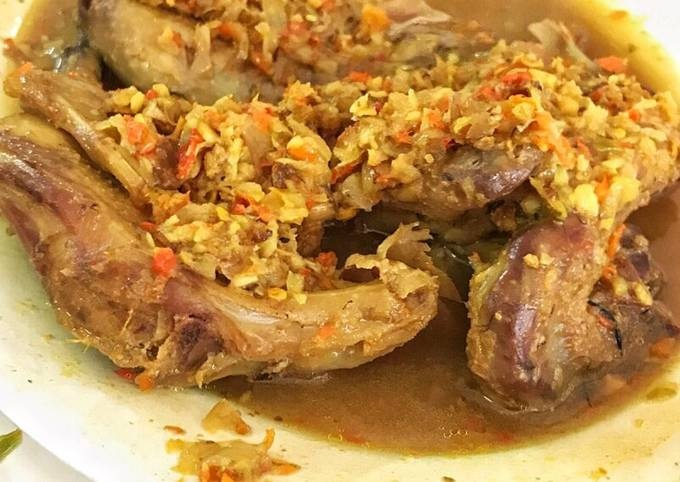ayam_betutu: (2, 1, 680, 412)
